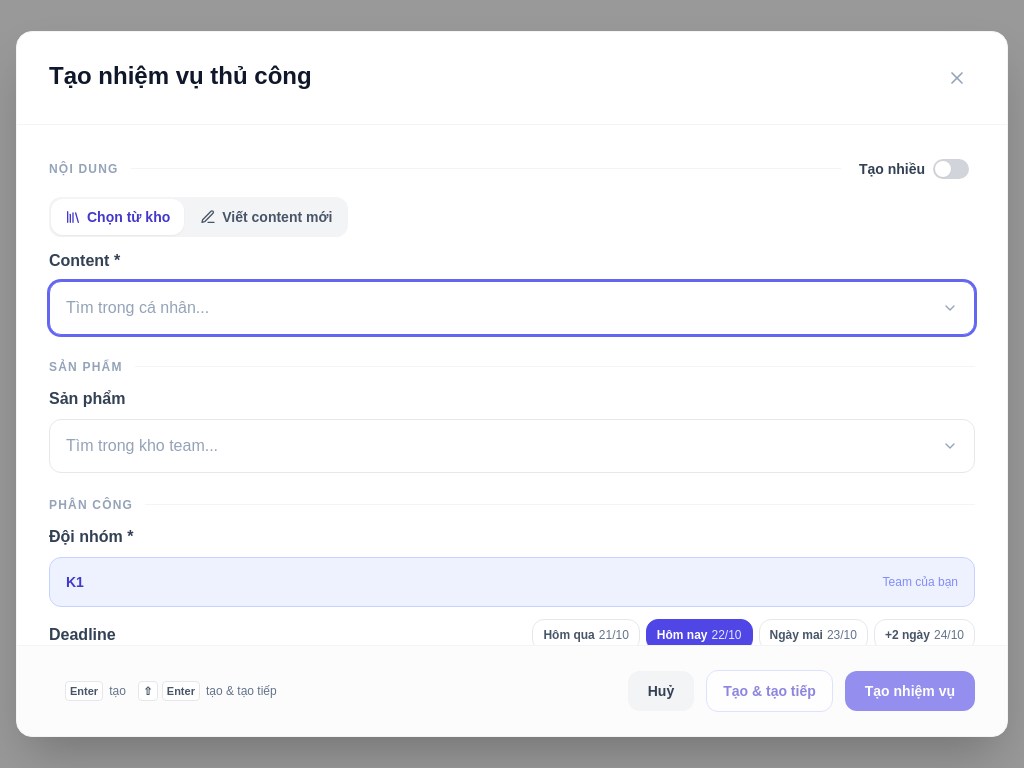
Test: Enter để tạo nhiệm vụ › Shift+Enter = Tạo & tạo tiếp
The image size is (1024, 768).
Click the button "Tìm trong cá nhân..." at (138, 307), box [49,281,975,335]
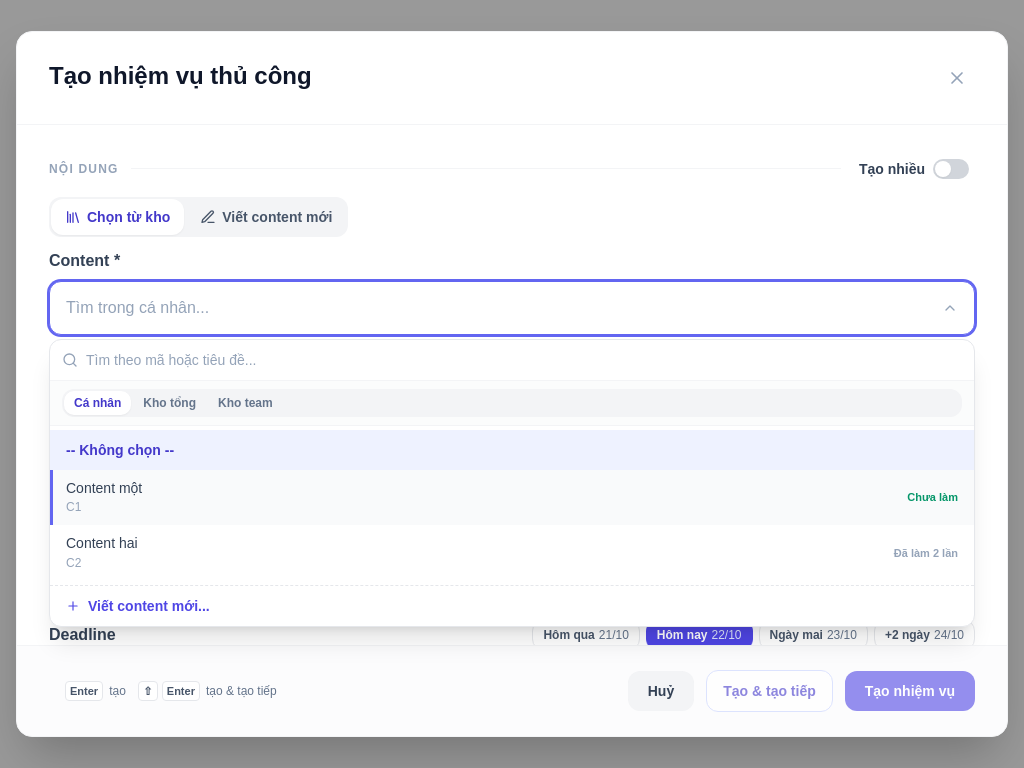
Click the option "Content hai C2 Đã làm 2 lần" at (102, 543), box [50,525,974,581]
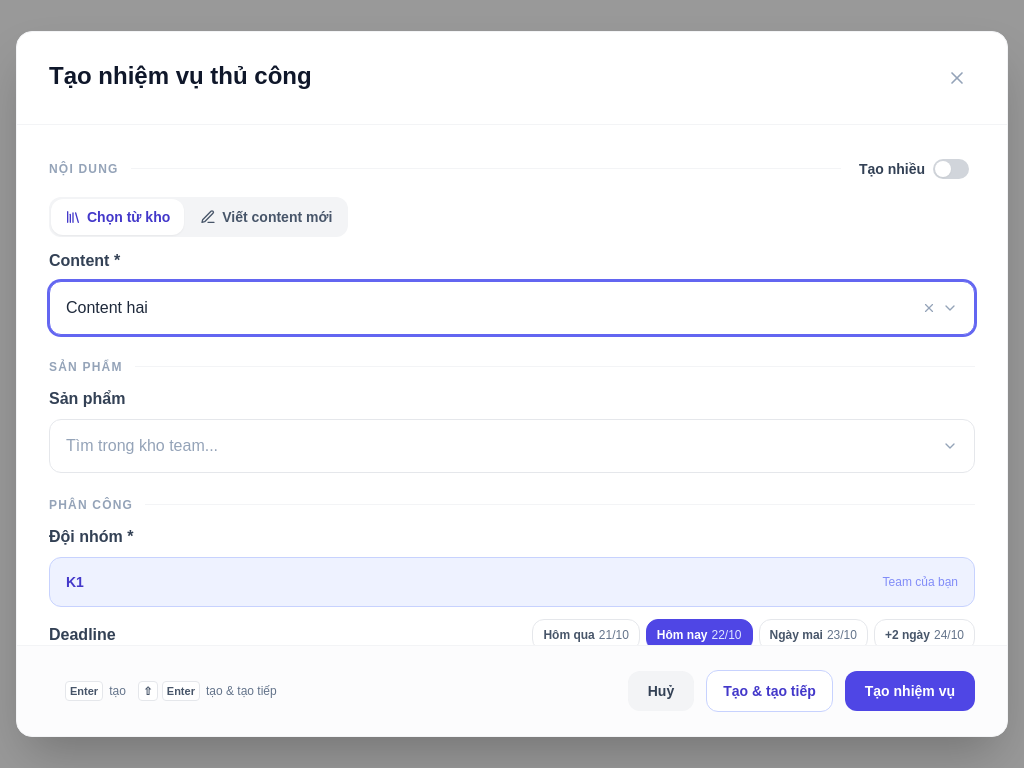
Press Enter in the button "Content hai", box [49,281,975,335]
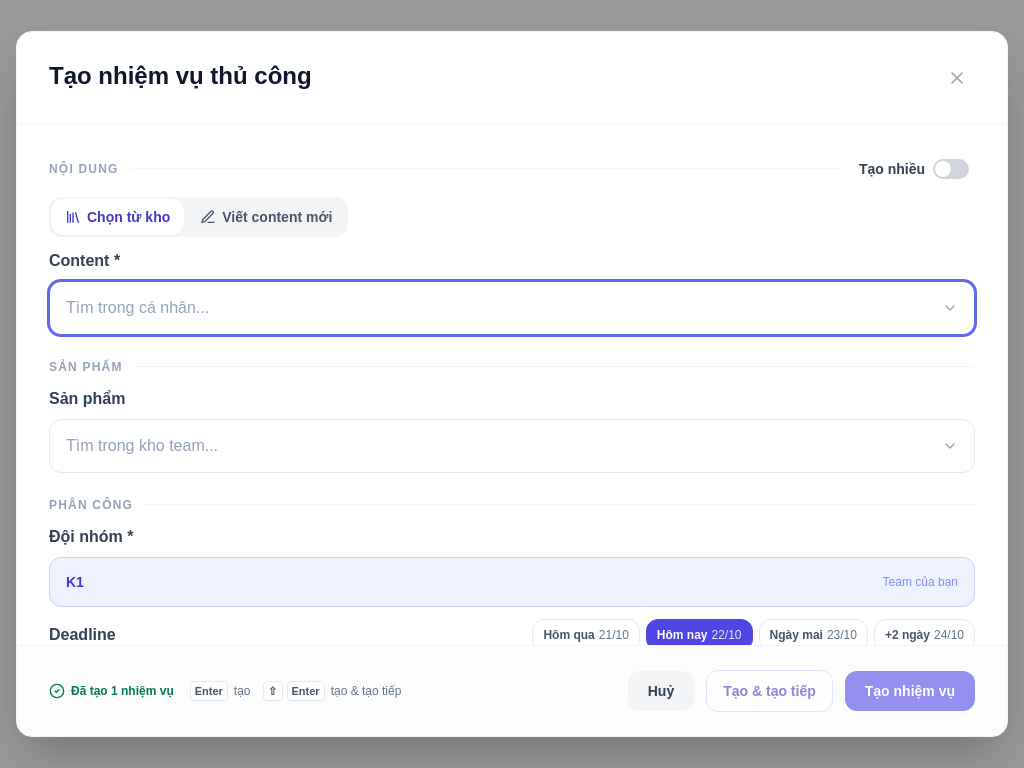
Result: the text "Đã tạo 1 nhiệm vụ" is shown at [49,683,174,699]
